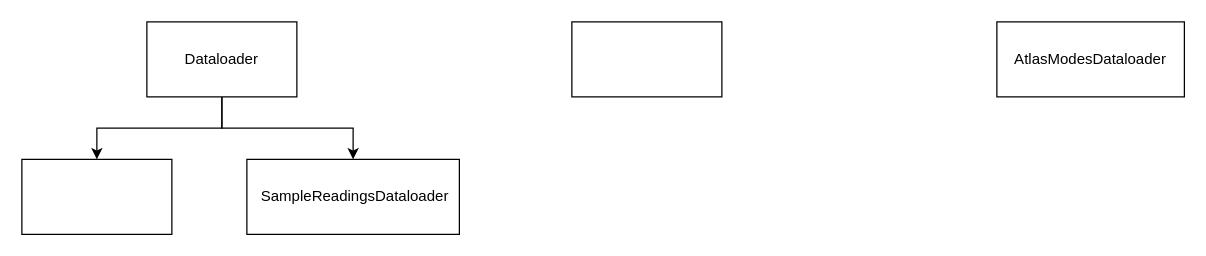
Image size: 1206x256. Some labels were removed from this diagram. The centre of each missing label's shape, as x and y in pixels:
RigidBodyDataloader: the point at 96,196
Surfaceloader: the point at 646,59
